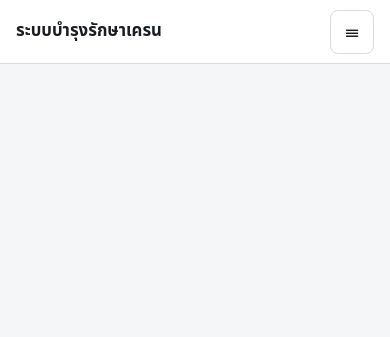
Scenario: NavBar mobile navigation › closes the menu again after a link is chosen
Click the button named "เปิดเมนู" at (352, 32), box [330,10,374,54]
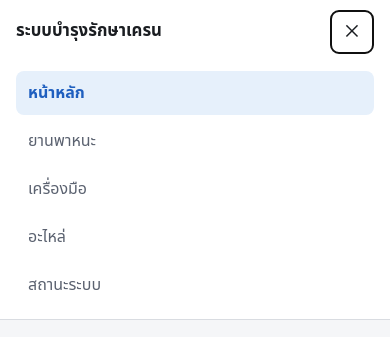
Click the link "สถานะระบบ" at (64, 285), box [28,273,101,297]
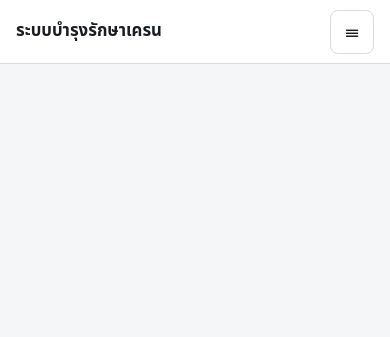
expect the list does not have class "is-open": met
